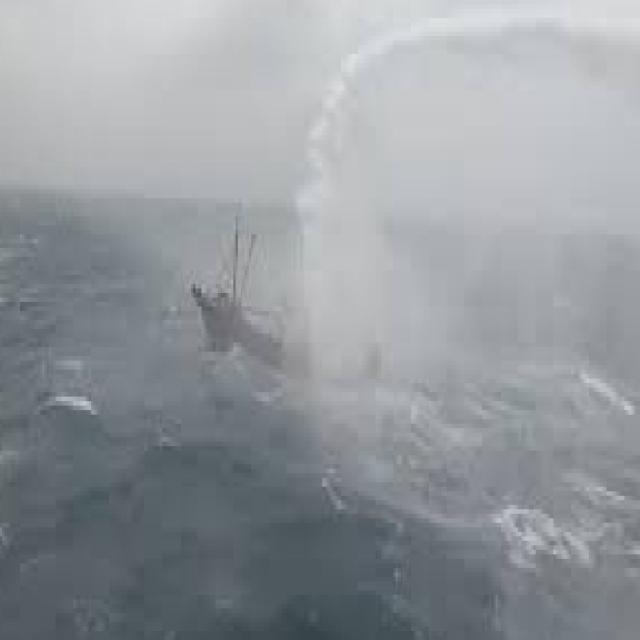fishing boat: (193, 229, 382, 401)
